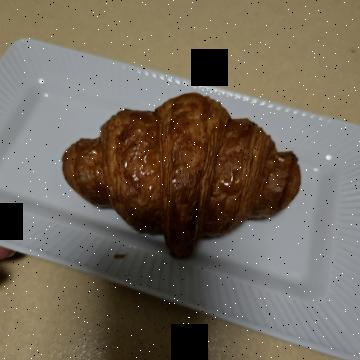croissant: (61, 56, 261, 307)
